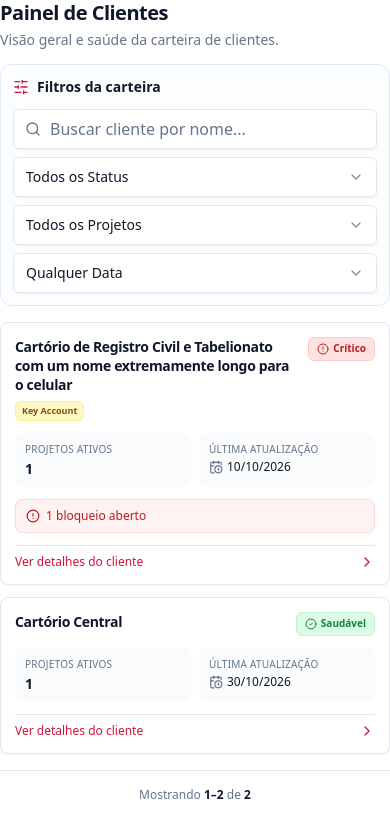
Test: Painel de Clientes no mobile › mostra um estado vazio mobile e permite limpar a busca
In the field labelled "Buscar cliente por nome": [195, 129] box 13,109 -> 377,149, type "cliente inexistente"
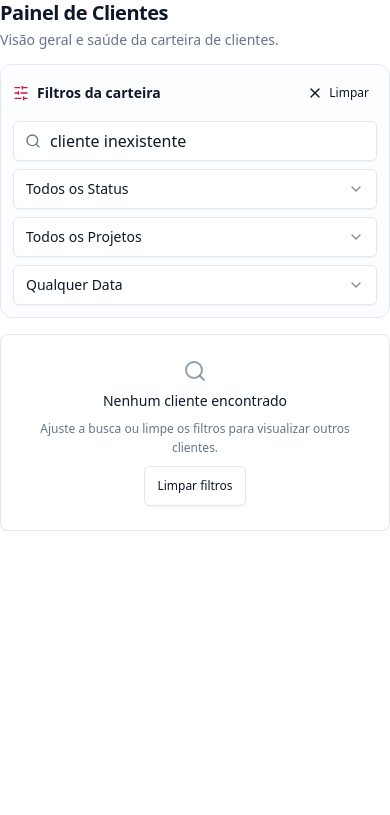
Result: the element with test id "commercial-customer-empty-state" is shown at 0,334 -> 389,531
Result: the text "Nenhum cliente encontrado" is shown at 103,391 -> 287,411
Click the button "Limpar filtros": [195, 486] box 144,466 -> 246,506
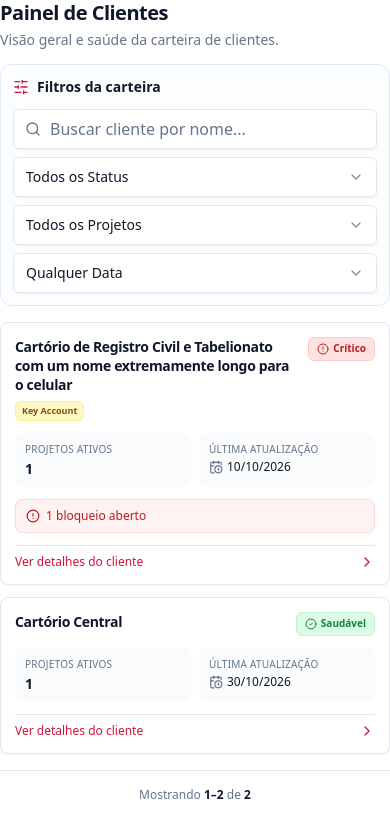
Result: the element with test id "commercial-customer-empty-state" is gone
Result: the number of elements with test id "commercial-customer-card" is 2 at 0,322 -> 389,585; 0,596 -> 389,754
